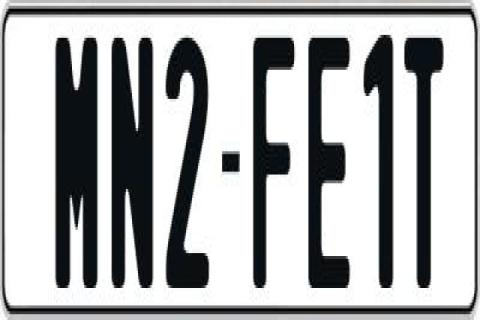0: (164, 38, 212, 297), (364, 27, 398, 297)
E: (308, 29, 354, 297)
F: (252, 29, 292, 279)
M: (52, 35, 100, 299)
N: (108, 38, 152, 306)
T: (404, 29, 446, 291)
